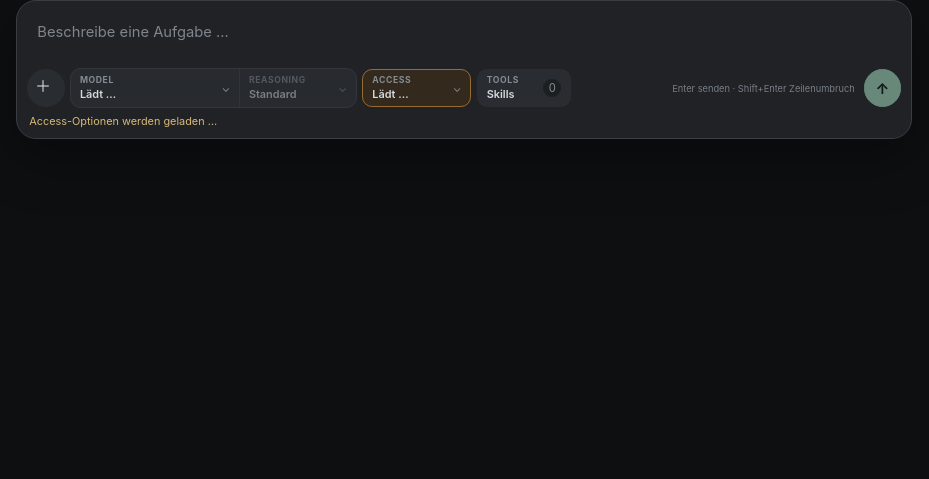
Scenario: shows a loading Access state and keeps every mode unavailable before capabilities arrive
The image size is (929, 479).
Step 1. Click the button with aria-label "Access: Lädt …" → (417, 88), box [362,70,471,107]
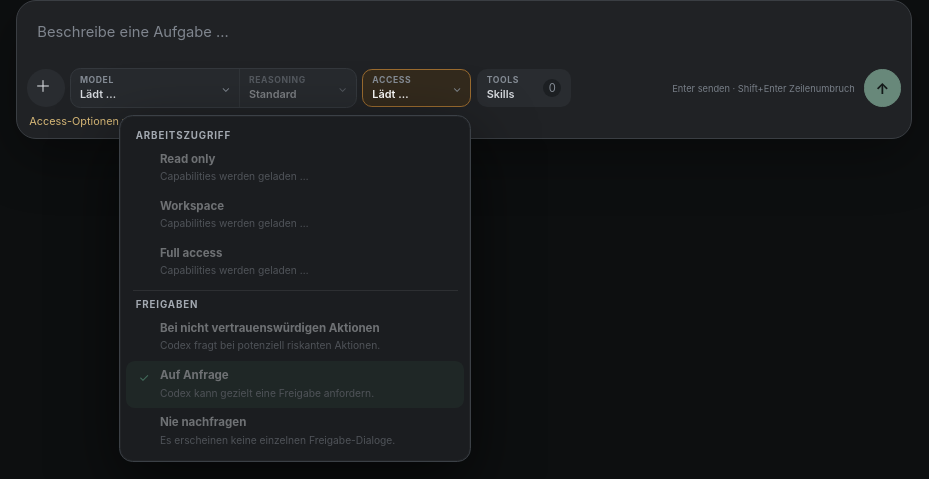
Expected: the menu item "Read only Capabilities werden geladen …" is disabled, [126,144,464,191]
Expected: the menu item "Workspace Capabilities werden geladen …" is disabled, [126,191,464,238]
Expected: the menu item "Full access Capabilities werden geladen …" is disabled, [126,238,464,286]
